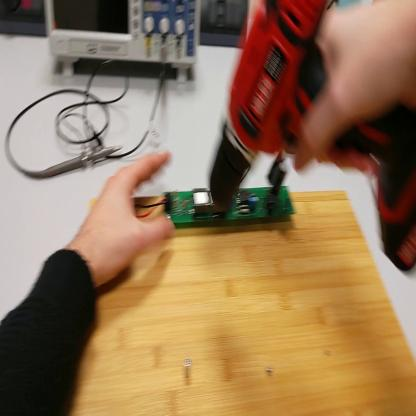electric screwdriver: (208, 2, 415, 272)
hand: (293, 3, 416, 173), (82, 149, 175, 284)
high voltage board: (140, 158, 302, 231)
oscilloscope: (43, 1, 204, 85)
oscilloscope probe tip: (39, 144, 123, 184)
socket: (1, 2, 46, 38)
working area: (75, 191, 416, 416)
